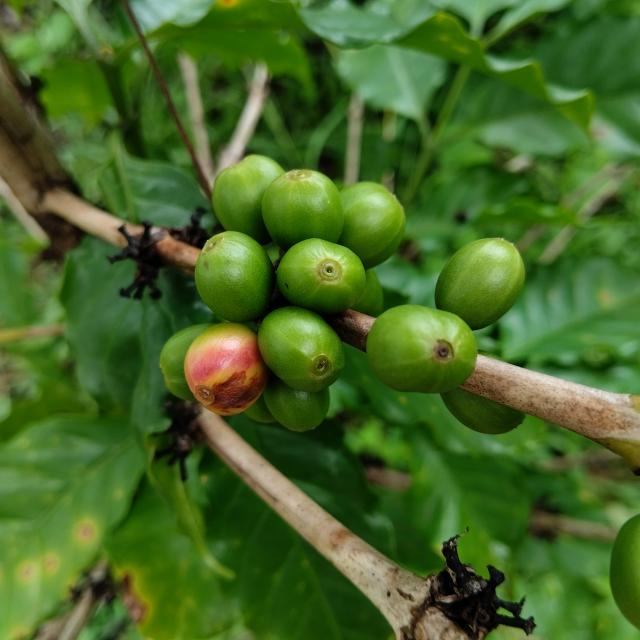green: (367, 305, 478, 394), (435, 238, 526, 330), (258, 306, 345, 392), (195, 231, 275, 323), (277, 238, 366, 314), (262, 169, 344, 249), (212, 154, 284, 245), (339, 181, 406, 269), (159, 323, 214, 402), (441, 388, 526, 435), (262, 375, 330, 432), (351, 269, 383, 317), (244, 395, 276, 424)
red: (184, 322, 270, 416)
